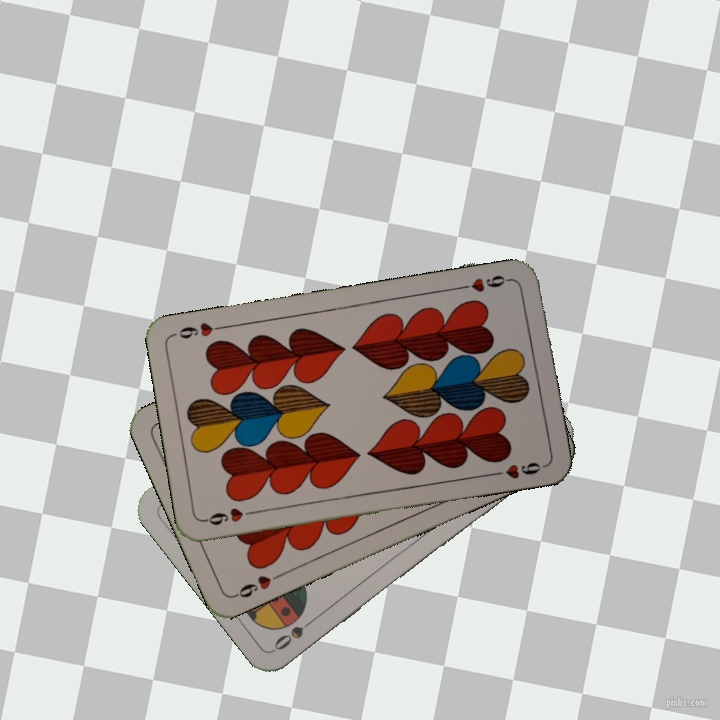H9: (230, 569, 285, 601), (200, 504, 259, 528), (456, 271, 515, 295)
SO: (270, 611, 321, 653)
